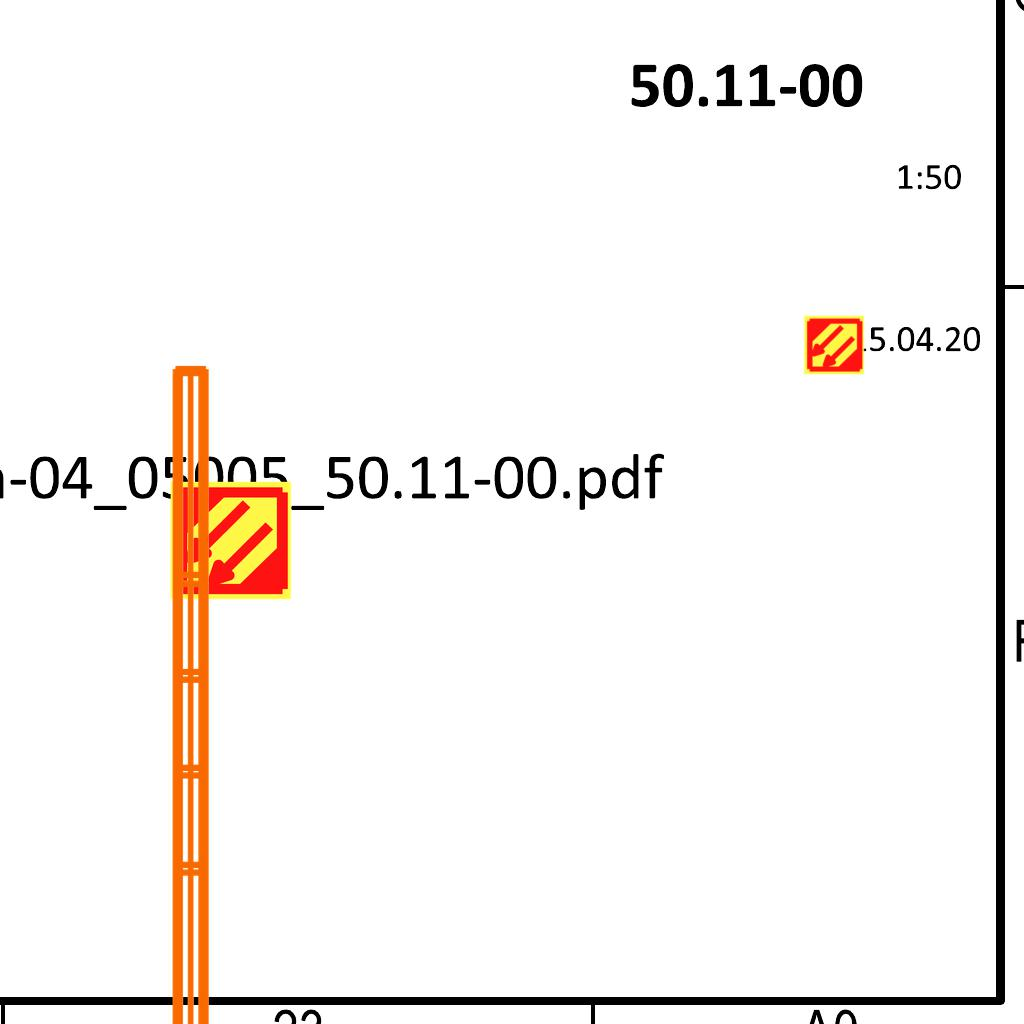ASR_Ansaugrauchmelder: (168, 478, 293, 603), (803, 314, 865, 376)
Ambulanz_Pendelleuchte_LED: (160, 355, 272, 1024)
